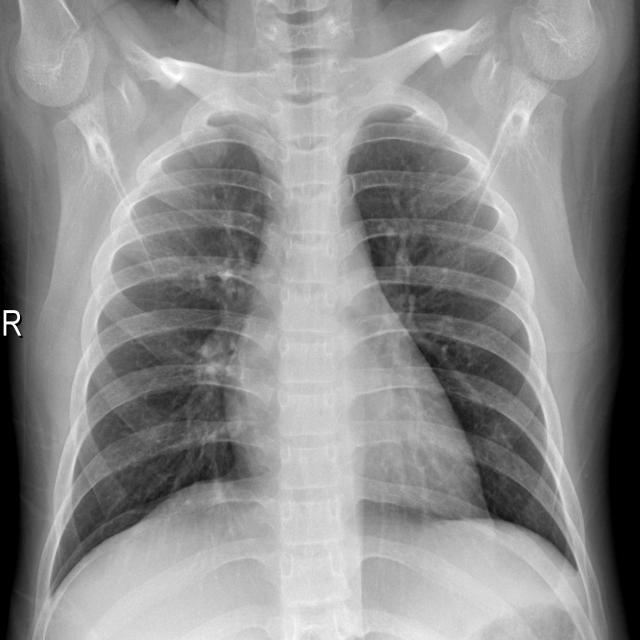no-pneumonia: (348, 120, 576, 563), (51, 142, 274, 588)
